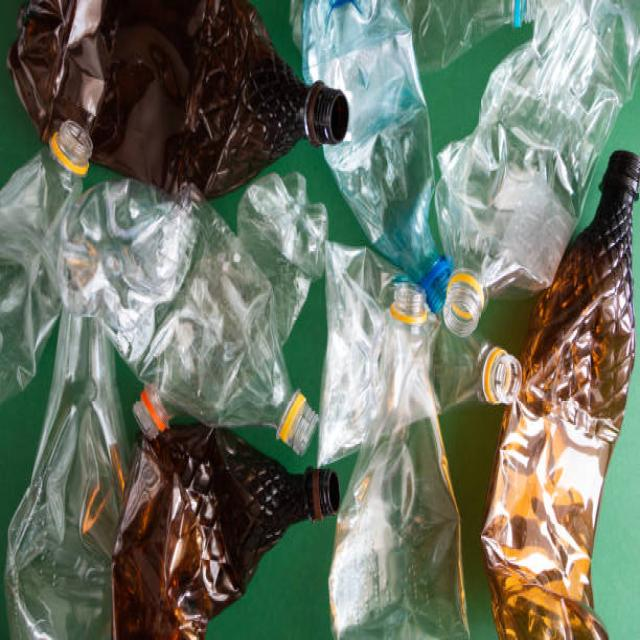plastic: (21, 39, 601, 640)
